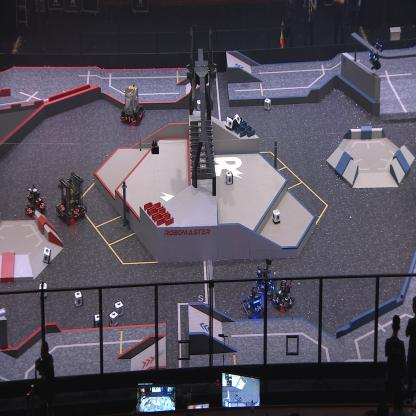car: (57, 172, 86, 225), (120, 84, 144, 124), (242, 284, 266, 322), (254, 261, 275, 297), (273, 277, 294, 310), (24, 186, 46, 216)
